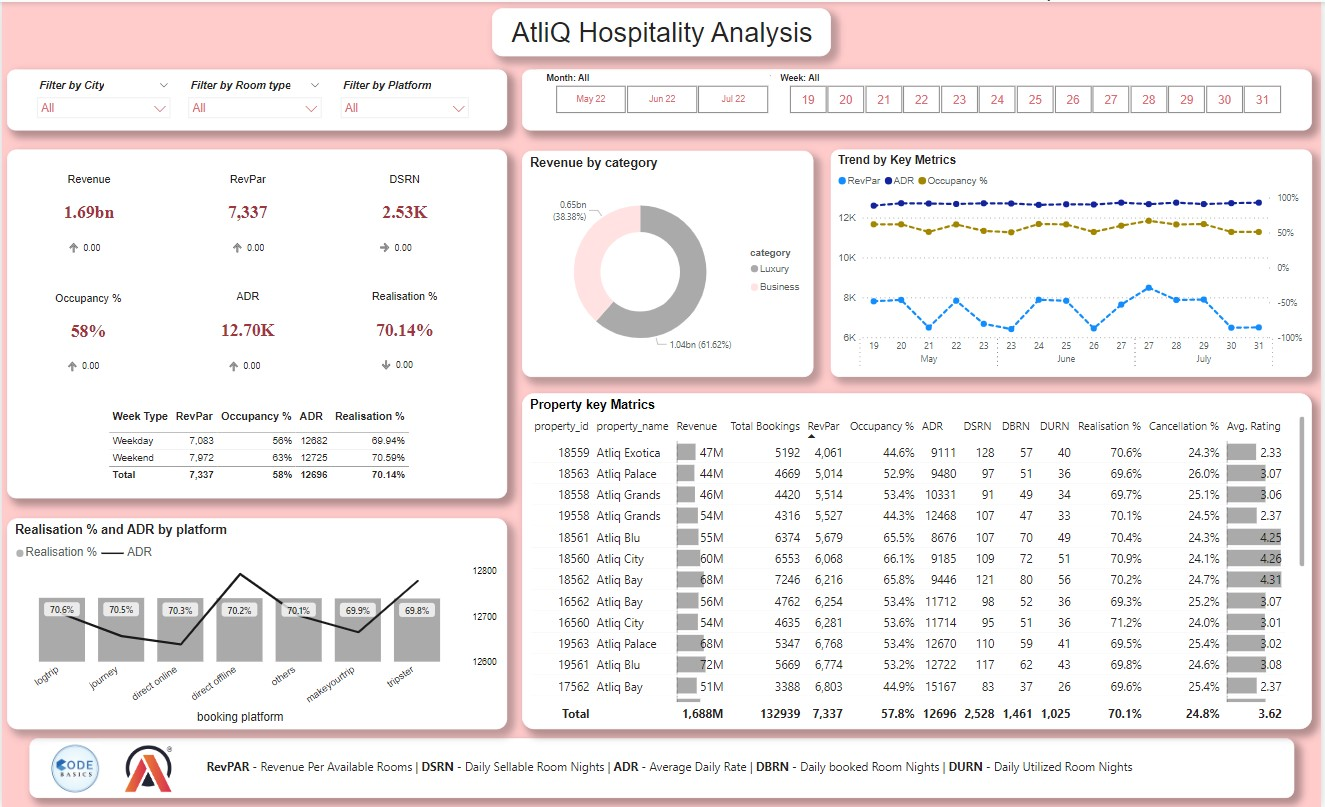

What the dashboard file says about the page in this screenshot:
{"tool":"powerbi","page":{"name":"Main Dashboard","canvas":[1800,1100],"ordinal":0},"visuals":[{"type":"shape","box":[37.5,1004.5,1725.9,81.9],"z":0},{"type":"shape","box":[6.8,201.2,682.2,475.8],"z":1000},{"type":"shape","box":[709.5,92.1,1077.8,83.6],"z":2000},{"type":"shape","box":[6.8,92.1,682.2,83.6],"z":3000},{"type":"slicer","fields":{"Values":["dim_hotels.city"]},"box":[38.3,100,201.7,66.7],"z":4000},{"type":"slicer","fields":{"Values":["dim_rooms.room_class"]},"box":[243.3,100,201.7,66.7],"z":5000},{"type":"tableEx","title":"Property key Matrics","fields":{"Values":["dim_hotels.property_id","dim_hotels.property_name","Key Measures.Revenue","Key Measures.TSB","Key Measures.RevPar","Key Measures.Occupancy %","Key Measures.ADR","Key Measures.DSRN","Key Measures.DBRN","Key Measures.DURN","Key Measures.Realisation %","Key Measures.Cancellation %"]},"box":[709.5,533.8,1077.8,458.8],"z":6000},{"type":"slicer","fields":{"Values":["fact_booking.booking_platform"]},"box":[451.7,100,195,66.7],"z":7000},{"type":"slicer","fields":{"Values":["dim_date.mmm yy"]},"box":[729.9,92.1,339.4,66.5],"z":9000},{"type":"slicer","fields":{"Values":["dim_date.weeknum"]},"box":[1048.8,92.1,719.7,66.5],"z":9500},{"type":"donutChart","fields":{"Category":["dim_hotels.category"],"Y":["Key Measures.Revenue"]},"box":[709.5,202.9,397.4,308.7],"z":10000},{"type":"lineChart","title":"Trend by Key Metrics","fields":{"Y":["Key Measures.RevPar","Key Measures.ADR"],"Category":["dim_date.mmm yy.Variation.Date Hierarchy.Month","dim_date.weeknum"],"Y2":["Key Measures.Occupancy %"]},"box":[1130.7,201.2,656.6,310.4],"z":11000},{"type":"lineClusteredColumnComboChart","title":"Realisation % and ADR by platform","fields":{"Category":["fact_booking.booking_platform"],"Y":["Key Measures.Realisation %"],"Y2":["Key Measures.ADR"]},"box":[6.8,704.3,682.2,288.2],"z":12000},{"type":"tableEx","fields":{"Values":["Key Measures.Revenue WoW change %"]},"box":[80,300,98.3,75],"z":13000},{"type":"card","title":"Revenue","fields":{"Values":["Key Measures.Revenue"]},"box":[49.7,229.3,136.7,96.7],"z":14000},{"type":"tableEx","fields":{"Values":["Key Measures.Revpar WoW change %"]},"box":[303.3,300,98.3,75],"z":15000},{"type":"tableEx","fields":{"Values":["Key Measures.DSRN WoW change %"]},"box":[505,300,100,75],"z":16000},{"type":"tableEx","fields":{"Values":["Key Measures.Realisation WoW change %"]},"box":[506.7,460,98.3,75],"z":17000},{"type":"tableEx","fields":{"Values":["Key Measures.ADR WoW change %"]},"box":[298.3,461.7,98.3,75],"z":18000},{"type":"tableEx","fields":{"Values":["Key Measures.Occupancy WoW change %"]},"box":[78.3,461.7,98.3,75],"z":19000},{"type":"card","title":"RevPar","fields":{"Values":["Key Measures.RevPar"]},"box":[268.3,229.2,133.3,96.7],"z":20000},{"type":"card","title":"DSRN","fields":{"Values":["Key Measures.DSRN"]},"box":[481.7,229.2,135,96.7],"z":21000},{"type":"card","title":"Occupancy %","fields":{"Values":["Key Measures.Occupancy %"]},"box":[48.3,390,138.3,98.3],"z":22000},{"type":"card","title":"ADR","fields":{"Values":["Key Measures.ADR"]},"box":[268.3,388.3,133.3,100],"z":23000},{"type":"card","title":"Realisation %","fields":{"Values":["Key Measures.Realisation %"]},"box":[481.7,388.3,135,100],"z":24000},{"type":"tableEx","fields":{"Values":["dim_date.Week Type","Key Measures.RevPar","Key Measures.Occupancy %","Key Measures.ADR","Key Measures.Realisation %"]},"box":[140,550,441.7,113.3],"z":25000},{"type":"textbox","box":[668.6,7.7,462.7,65.6],"z":26000},{"type":"image","box":[59.7,1001.1,80.2,88.7],"z":27000},{"type":"image","box":[162.9,1007.1,77.1,75.7],"z":28000},{"type":"textbox","box":[240.5,1026.7,1340.5,39.2],"z":29000}]}

Visuals, with their boxes in screenshot pixels (x1, y1, x2, y2), scaled from the page's 1800x1100 canvas onto the 1325x807 screenshot:
shape: (x1=28, y1=737, x2=1298, y2=797)
shape: (x1=5, y1=148, x2=507, y2=497)
shape: (x1=522, y1=68, x2=1316, y2=129)
shape: (x1=5, y1=68, x2=507, y2=129)
slicer - dim_hotels.city: (x1=28, y1=73, x2=177, y2=122)
slicer - dim_rooms.room_class: (x1=179, y1=73, x2=328, y2=122)
"Property key Matrics" tableEx: (x1=522, y1=392, x2=1316, y2=728)
slicer - fact_booking.booking_platform: (x1=333, y1=73, x2=476, y2=122)
slicer - dim_date.mmm yy: (x1=537, y1=68, x2=787, y2=116)
slicer - dim_date.weeknum: (x1=772, y1=68, x2=1302, y2=116)
donutChart - dim_hotels.category x Key Measures.Revenue: (x1=522, y1=149, x2=815, y2=375)
"Trend by Key Metrics" lineChart: (x1=832, y1=148, x2=1316, y2=375)
"Realisation % and ADR by platform" lineClusteredColumnComboChart: (x1=5, y1=517, x2=507, y2=728)
tableEx - Key Measures.Revenue WoW change %: (x1=59, y1=220, x2=131, y2=275)
"Revenue" card: (x1=37, y1=168, x2=137, y2=239)
tableEx - Key Measures.Revpar WoW change %: (x1=223, y1=220, x2=296, y2=275)
tableEx - Key Measures.DSRN WoW change %: (x1=372, y1=220, x2=445, y2=275)
tableEx - Key Measures.Realisation WoW change %: (x1=373, y1=337, x2=445, y2=392)
tableEx - Key Measures.ADR WoW change %: (x1=220, y1=339, x2=292, y2=394)
tableEx - Key Measures.Occupancy WoW change %: (x1=58, y1=339, x2=130, y2=394)
"RevPar" card: (x1=197, y1=168, x2=296, y2=239)
"DSRN" card: (x1=355, y1=168, x2=454, y2=239)
"Occupancy %" card: (x1=36, y1=286, x2=137, y2=358)
"ADR" card: (x1=197, y1=285, x2=296, y2=358)
"Realisation %" card: (x1=355, y1=285, x2=454, y2=358)
tableEx - dim_date.Week Type x Key Measures.RevPar: (x1=103, y1=404, x2=428, y2=487)
textbox: (x1=492, y1=6, x2=833, y2=54)
image: (x1=44, y1=734, x2=103, y2=800)
image: (x1=120, y1=739, x2=177, y2=794)
textbox: (x1=177, y1=753, x2=1164, y2=782)
